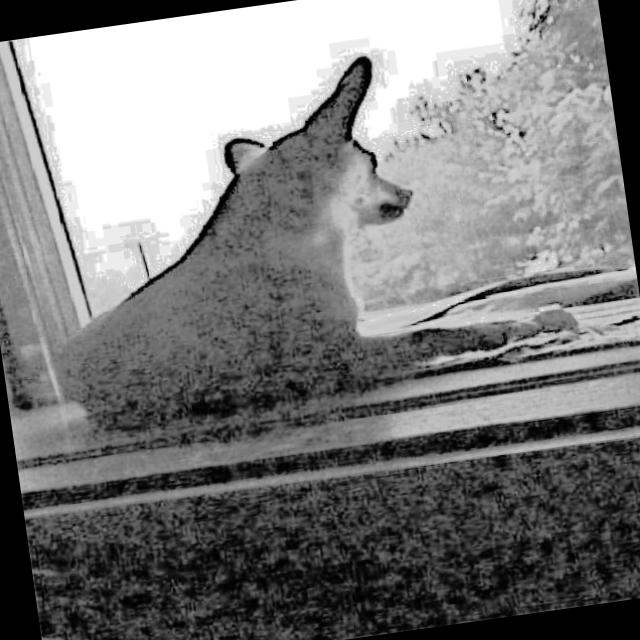Dog: (4, 23, 571, 450)
